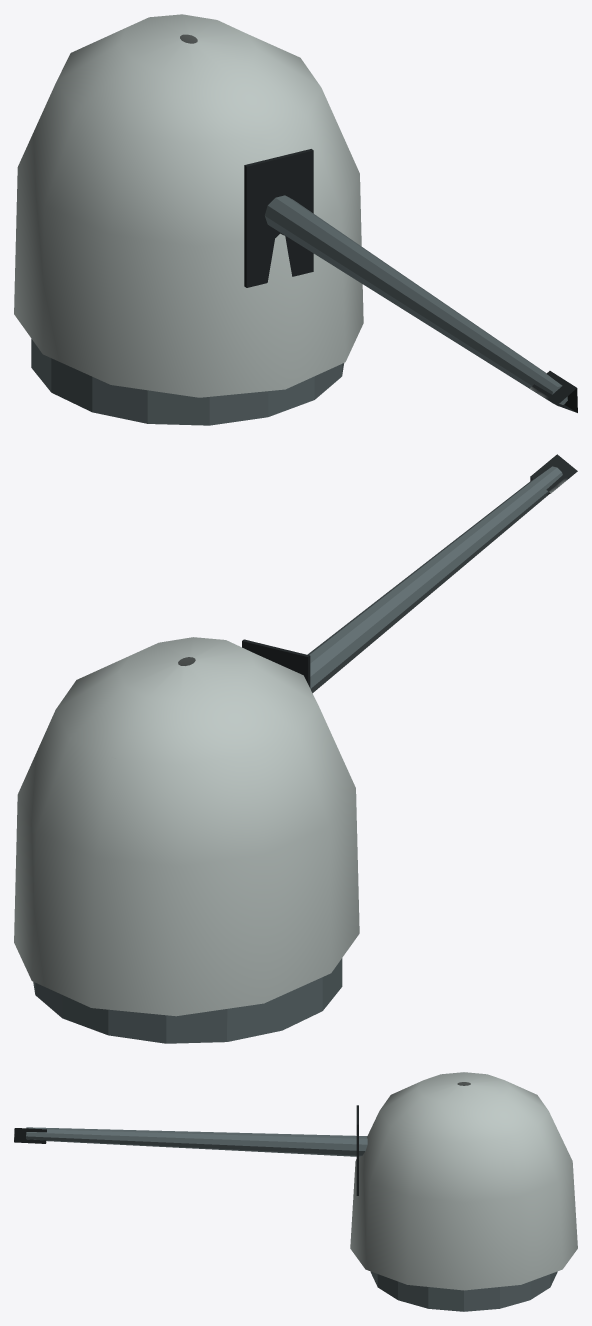
Rendered from mount_spruance_mk45.glb.
3 views of the same model, one above another, from view 1: azimuth 30°, elevation 25°; view 2: azimuth 150°, elevation 25°; view 3: azimuth 270°, elevation 25° (orthographic). The views are drawn at different scales.
Visible parts, largest first — view 1: MESH_SPRUANCE_TEMPLATE_mk45; view 2: MESH_SPRUANCE_TEMPLATE_mk45; view 3: MESH_SPRUANCE_TEMPLATE_mk45.
Boxes of the visible parts, x1,y1,x2,y2 form: MESH_SPRUANCE_TEMPLATE_mk45: [14, 14, 577, 425]; MESH_SPRUANCE_TEMPLATE_mk45: [14, 454, 577, 1043]; MESH_SPRUANCE_TEMPLATE_mk45: [14, 1072, 577, 1311].
Size of the model in its own units: 2.38 by 2.49 by 6.75.
1 material, 1 textured.
